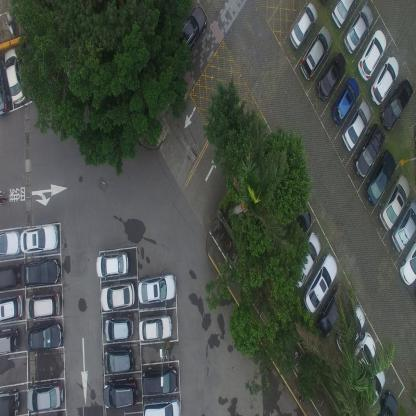car: (302, 251, 336, 313), (174, 5, 208, 62), (300, 24, 333, 82), (353, 123, 386, 179), (364, 149, 396, 206), (379, 172, 410, 228), (380, 80, 414, 130), (314, 283, 346, 336), (294, 231, 323, 288), (315, 52, 346, 104), (358, 27, 387, 82), (370, 55, 400, 108), (344, 3, 374, 54), (342, 100, 372, 150), (289, 2, 319, 51), (336, 304, 364, 356), (331, 76, 360, 126), (283, 202, 312, 250), (390, 199, 416, 252), (348, 332, 376, 380), (20, 221, 59, 254), (138, 273, 176, 306), (20, 257, 61, 287), (4, 46, 25, 104), (26, 380, 64, 412), (361, 362, 387, 408), (24, 290, 61, 322), (101, 282, 136, 315), (102, 378, 138, 410), (27, 322, 64, 352), (142, 364, 178, 394), (102, 343, 132, 378), (96, 252, 129, 282), (105, 313, 134, 345), (138, 314, 171, 342), (398, 239, 416, 287), (144, 396, 182, 415), (0, 292, 24, 322), (377, 386, 400, 416), (332, 0, 354, 30), (0, 57, 11, 116), (0, 228, 21, 258), (0, 327, 19, 358), (0, 263, 20, 292), (0, 388, 20, 415)
